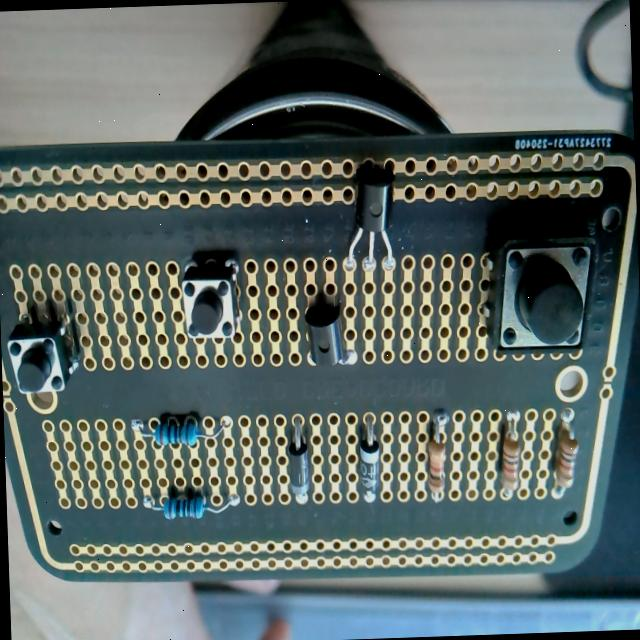diode: (285, 414, 311, 506), (357, 413, 382, 502)
resistor: (132, 414, 230, 449), (144, 489, 238, 521), (424, 408, 450, 502), (552, 414, 580, 496), (498, 408, 522, 496)
switch: (484, 228, 596, 358), (5, 306, 80, 396), (180, 257, 242, 342)
transistor: (344, 166, 398, 276), (303, 298, 357, 369)
